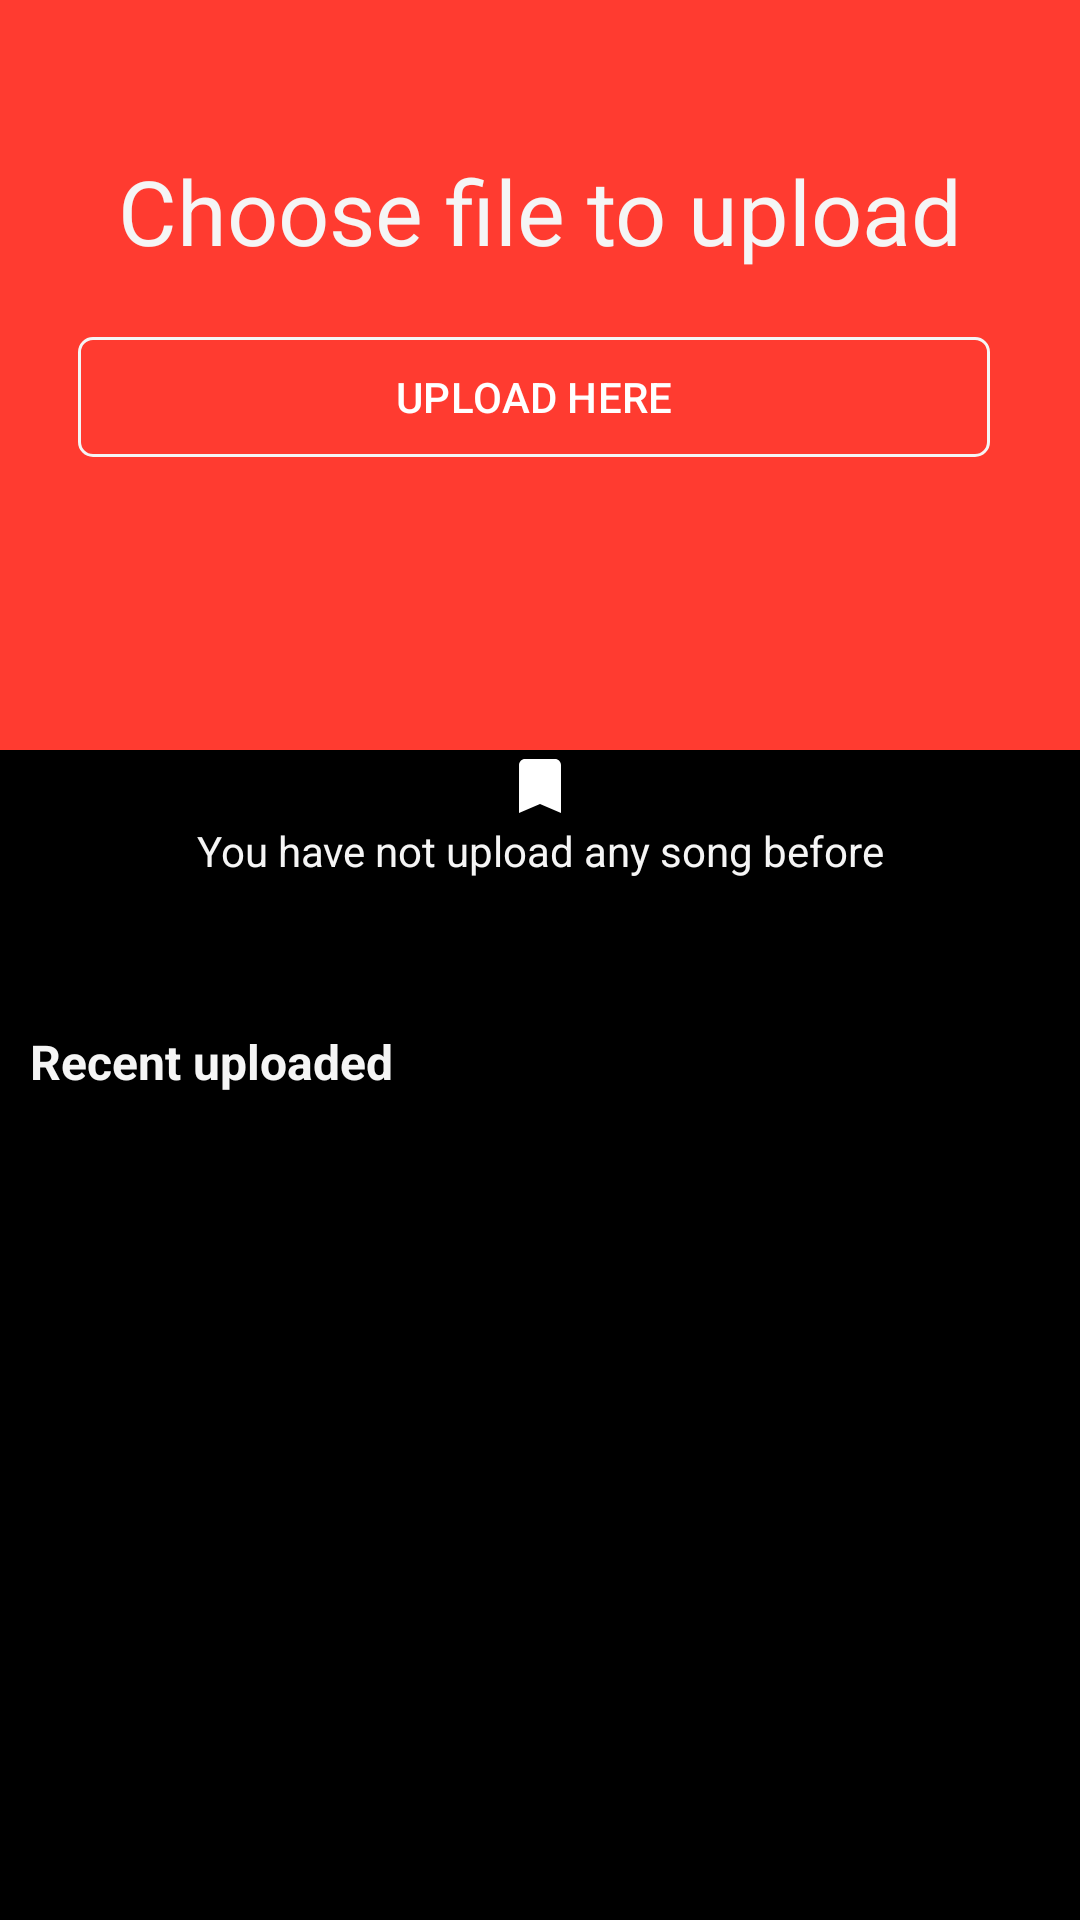

Named icons in this screenshot (1080 × 1920) and their bounding boxes, (x1, y1, x2, y2):
bookmark: (519, 759, 561, 813)
